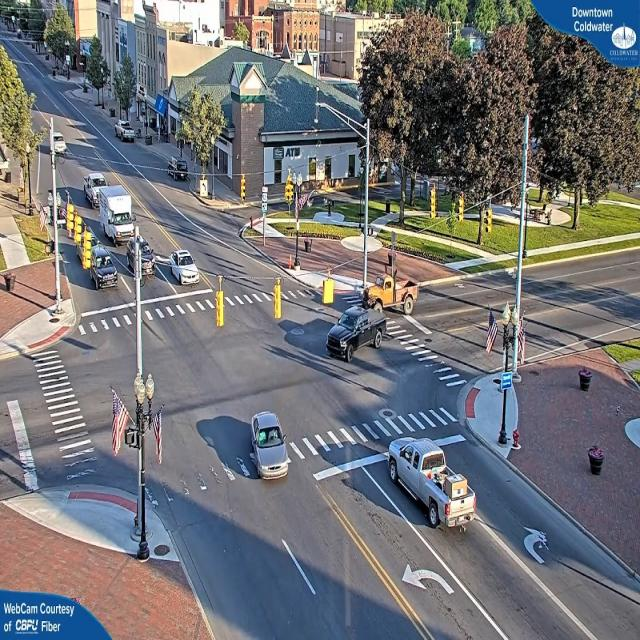car: (385, 440, 476, 536), (249, 414, 292, 481), (324, 308, 380, 357), (90, 247, 118, 292), (166, 250, 200, 286), (128, 238, 156, 279), (166, 159, 189, 180), (117, 123, 136, 143)
truck: (92, 180, 138, 244), (362, 271, 420, 314)
